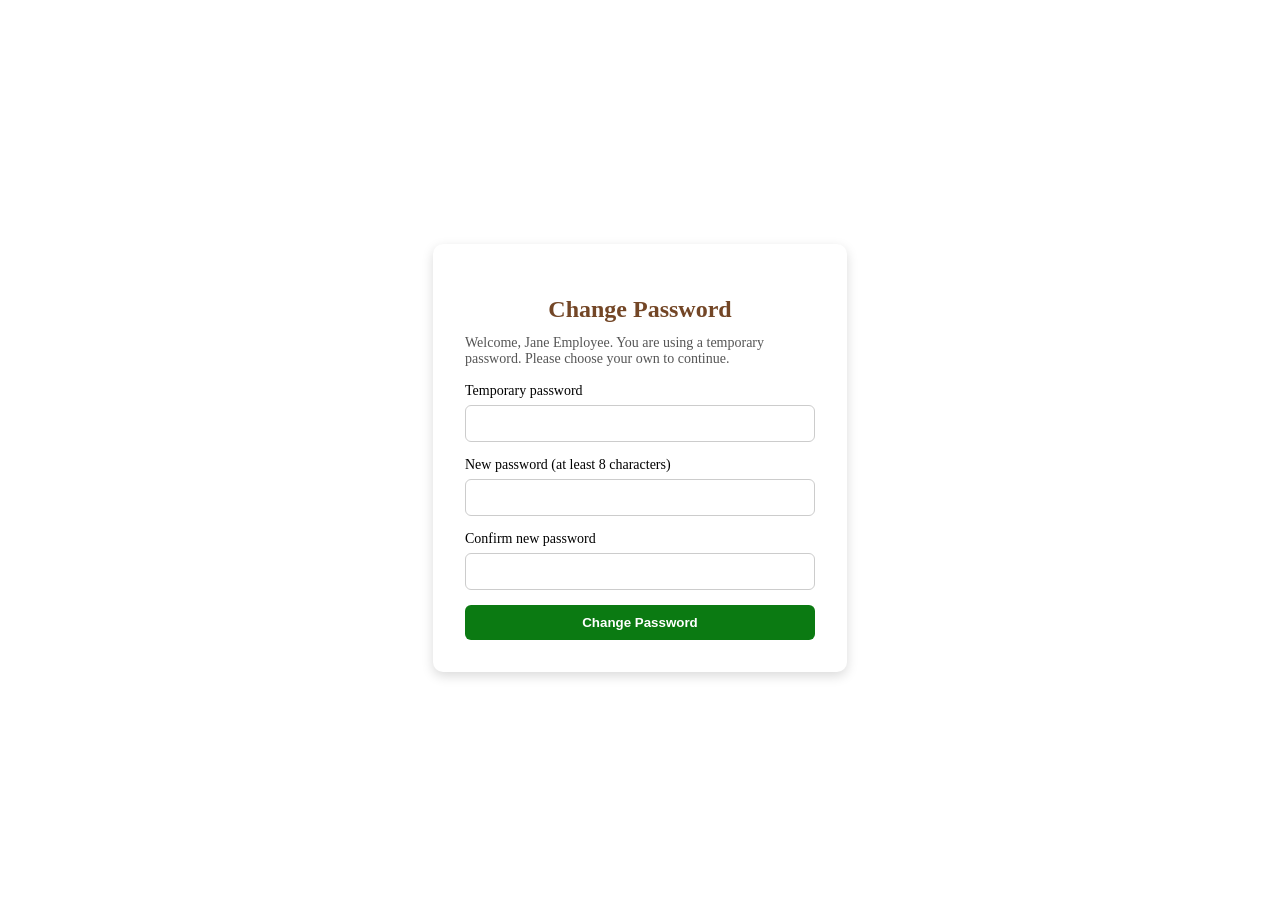
a user with a temporary password must change it before using the app
Check: the text "You are using a temporary password" is shown, box [465,335,764,366]
Type "temp-pass-123" into the password field labelled "Temporary password" at (640, 424), box [465,405,815,442]
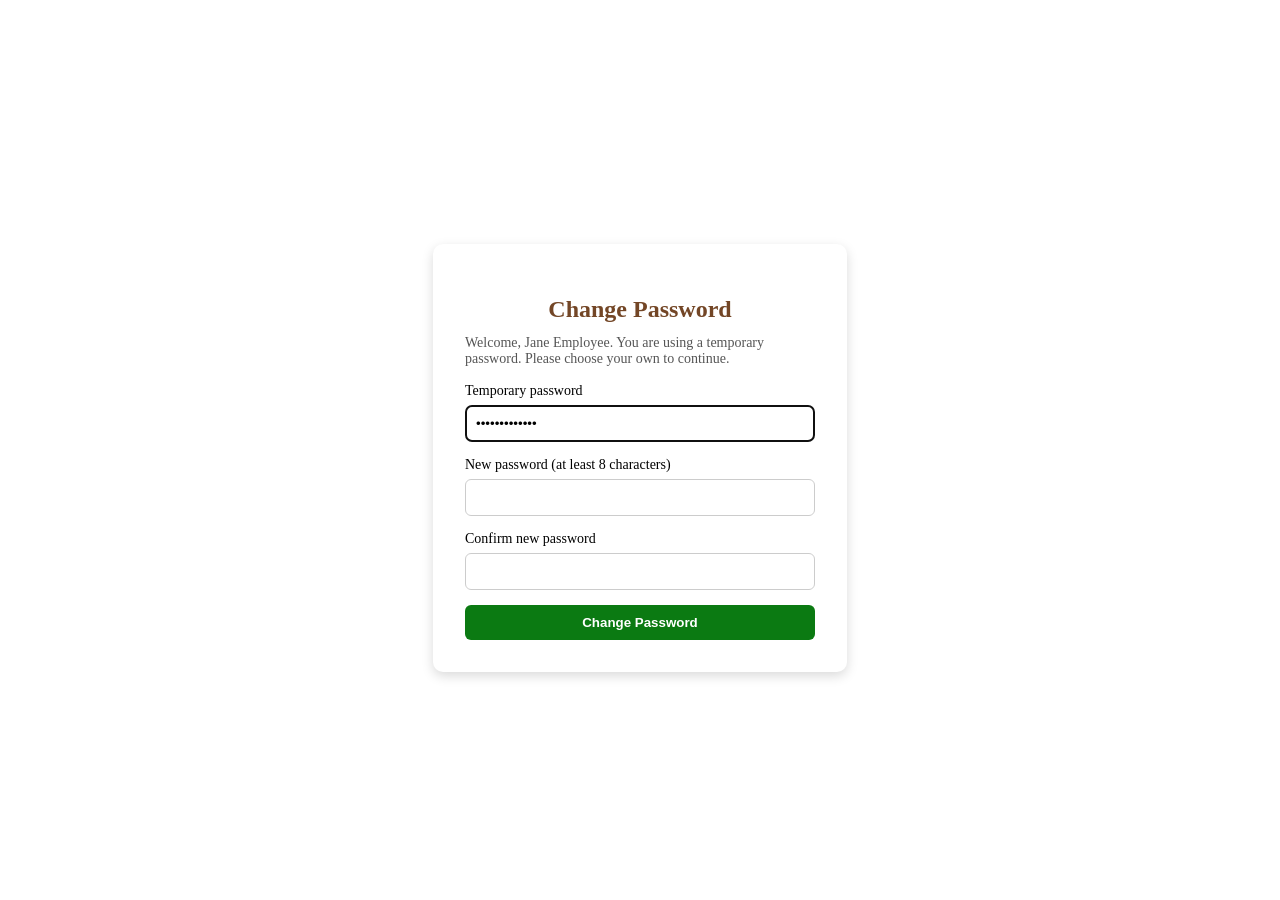
Type "my-own-password" into the password field labelled "New password (at least 8 characters)" at (640, 498), box [465,479,815,516]
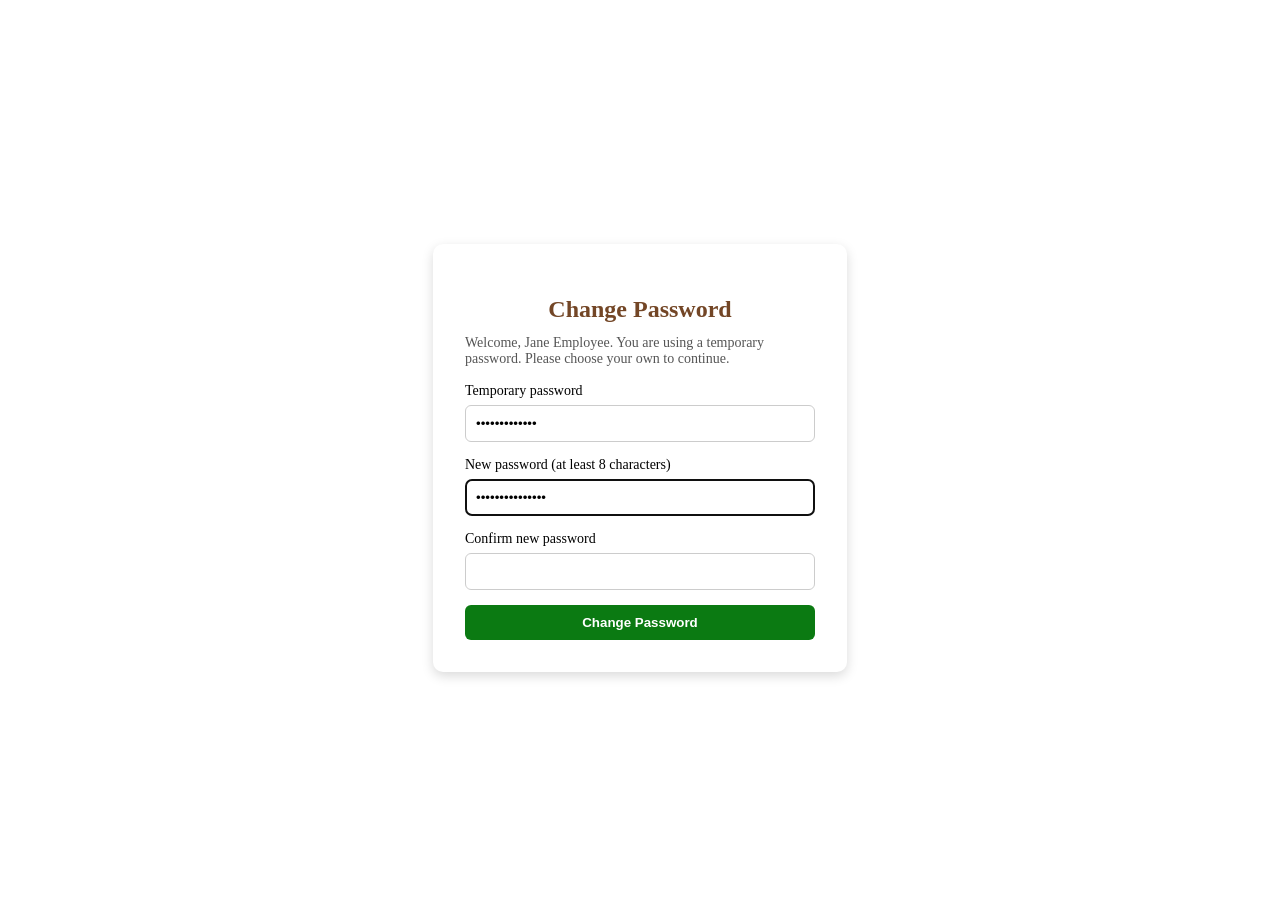
Type "my-own-password" into the password field labelled "Confirm new password" at (640, 572), box [465,553,815,590]
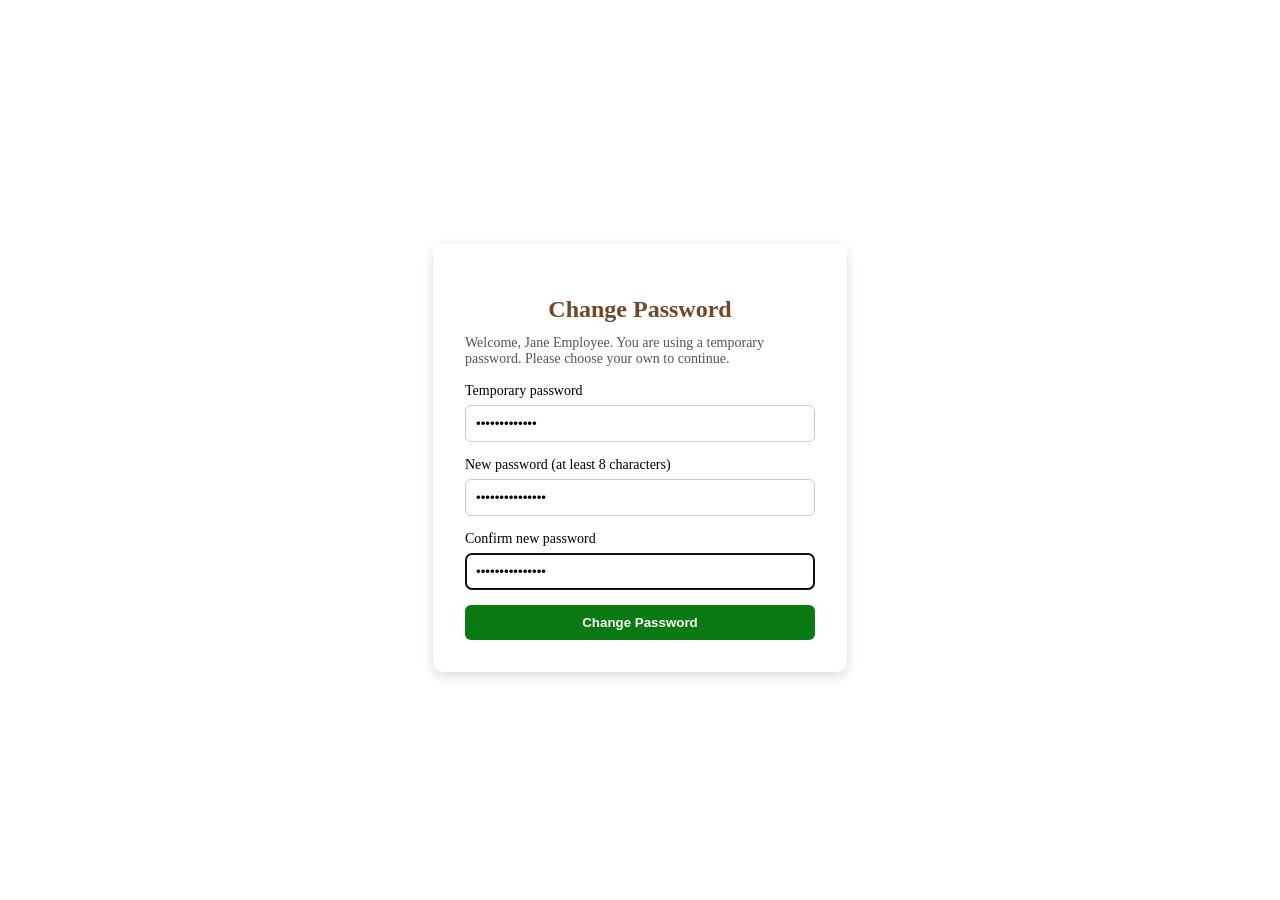
Click the button "Change Password" at (640, 622), box [465,605,815,640]
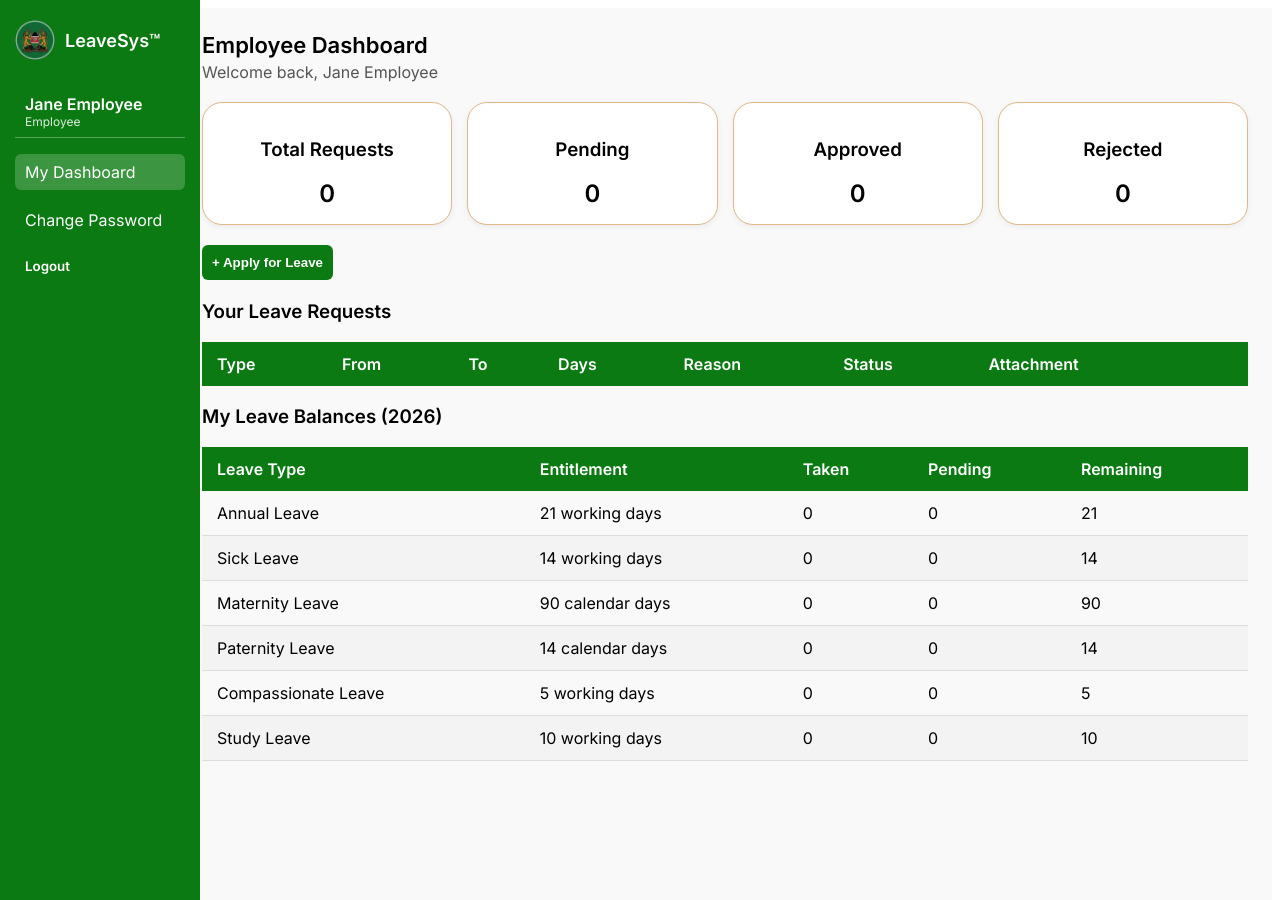
Check: the heading "Employee Dashboard" is shown, box [202,32,428,58]
